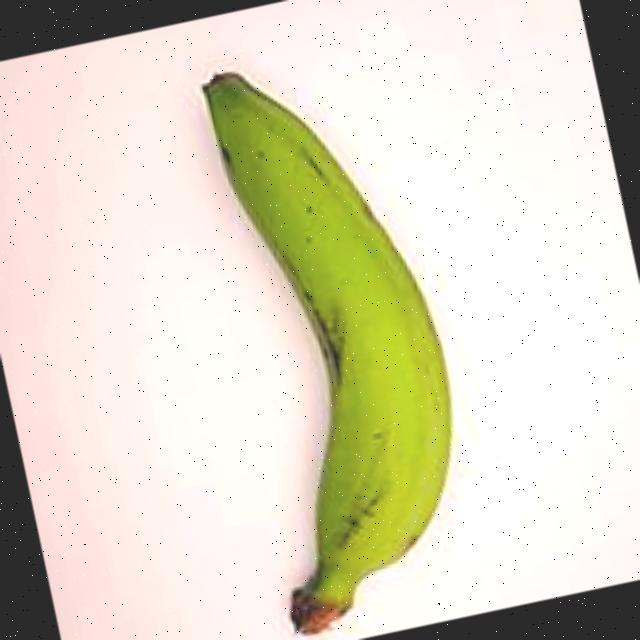Raw: (123, 13, 509, 640)
